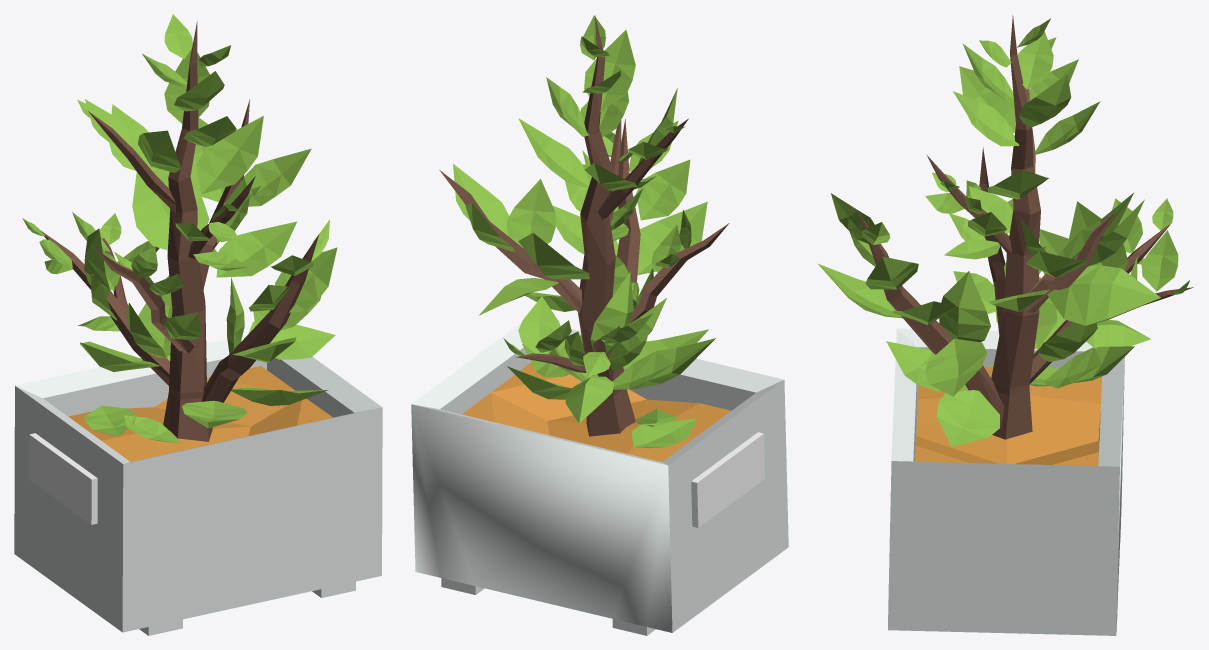
The model's file is Pot Plant.glb.
The picture shows the model from 3 angles, left to right: view 1: azimuth 30°, elevation 25°; view 2: azimuth 150°, elevation 25°; view 3: azimuth 270°, elevation 25°; orthographic projection. The views are drawn at different scales.
Parts seen in each view (by area): view 1: Pot Plant; view 2: Pot Plant; view 3: Pot Plant.
Part boxes in pixels (bbox=[...]): Pot Plant: bbox=[14, 14, 382, 635]; Pot Plant: bbox=[411, 15, 788, 635]; Pot Plant: bbox=[817, 15, 1193, 635].
Bounding box in the file's own units: 0.2387 × 0.4742 × 0.2859.
